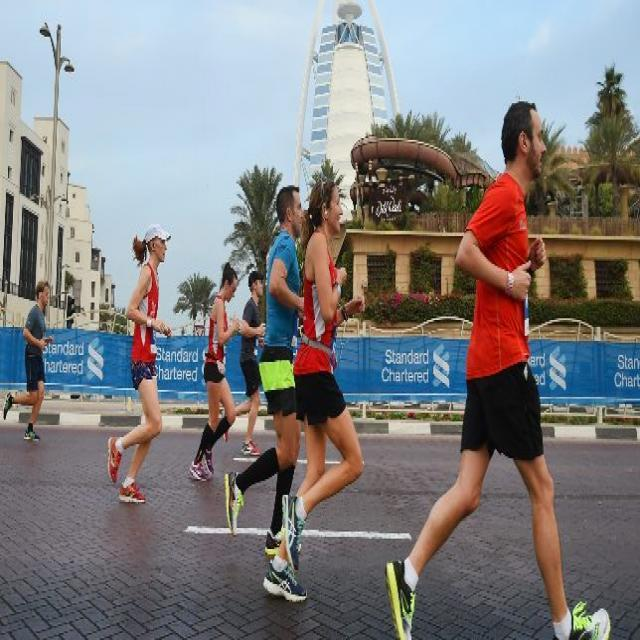Standard Chartered: (381, 344, 451, 389), (43, 337, 104, 382), (157, 346, 199, 381), (549, 346, 567, 392)
